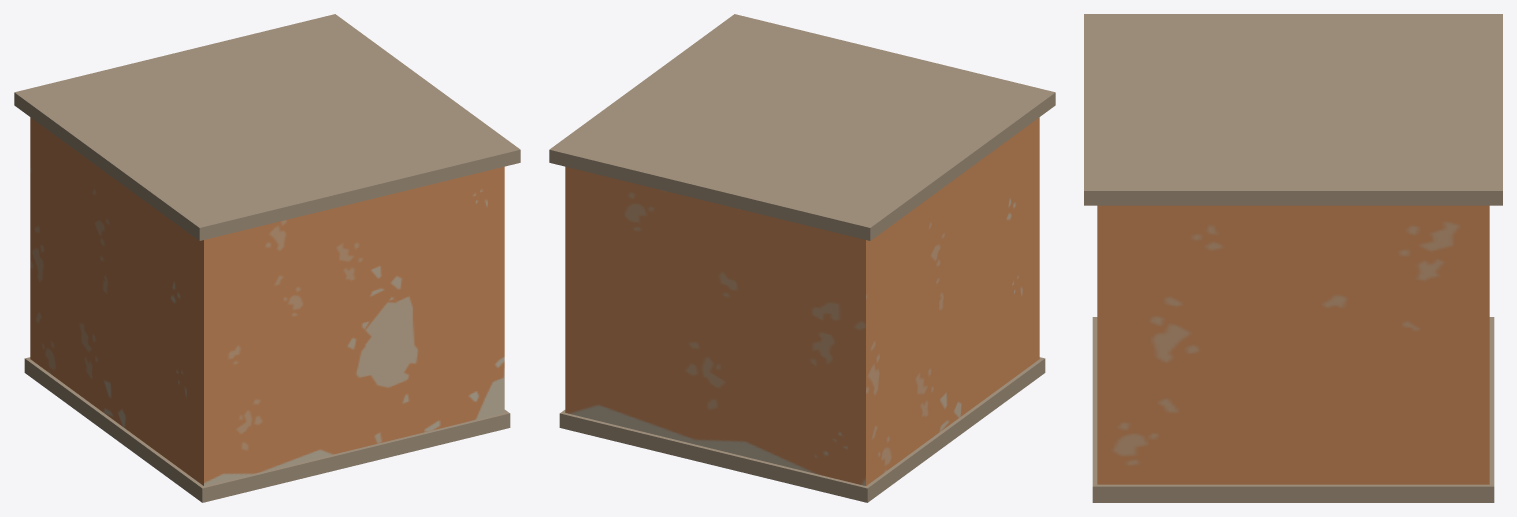
File: SM_Bld_Cuba_Room_01.glb
3 renders of one model, left to right at view 1: azimuth 30°, elevation 25°; view 2: azimuth 150°, elevation 25°; view 3: azimuth 270°, elevation 25°, orthographic. The views are drawn at different scales.
Parts seen in each view (by area): view 1: SM_Bld_Cuba_Room_01_part00; view 2: SM_Bld_Cuba_Room_01_part00; view 3: SM_Bld_Cuba_Room_01_part00.
Boxes of the visible parts, bbox=[...] form: SM_Bld_Cuba_Room_01_part00: bbox=[14, 14, 520, 502]; SM_Bld_Cuba_Room_01_part00: bbox=[549, 14, 1055, 502]; SM_Bld_Cuba_Room_01_part00: bbox=[1084, 14, 1502, 502].
Bounding box in the file's own units: 4 × 3.33 × 4.
1 material, 1 textured.
